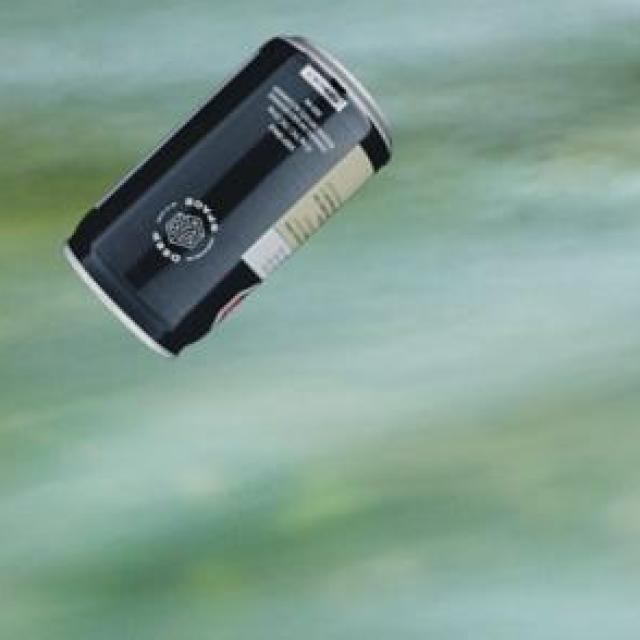logam: (60, 34, 389, 356)
